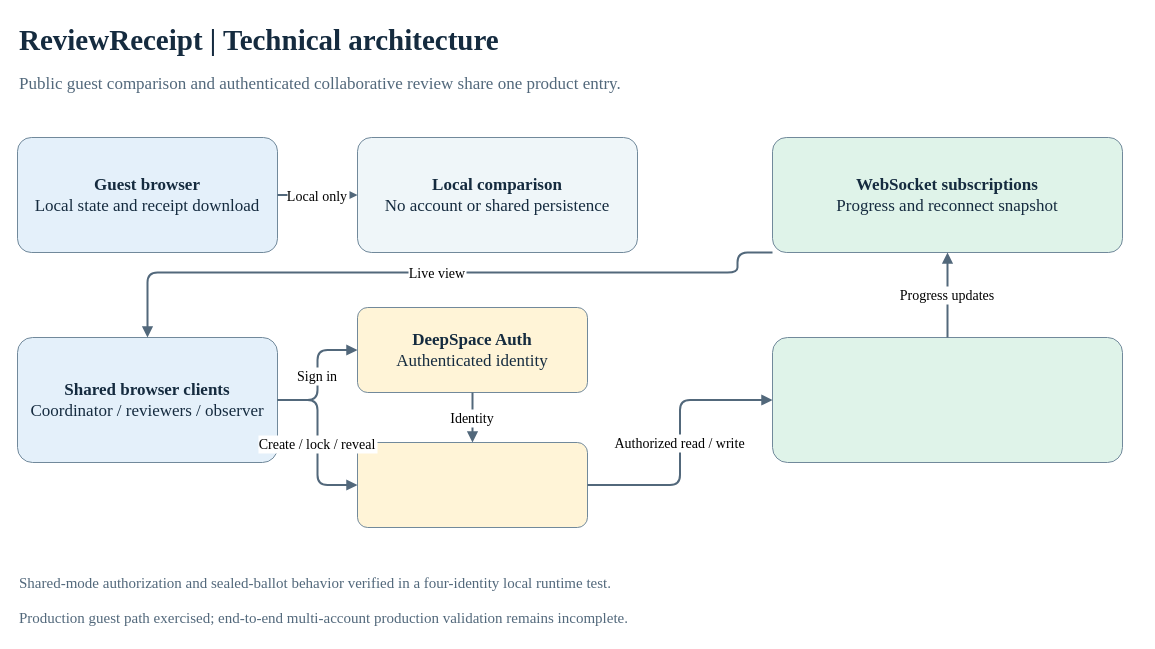
This 1155x649 diagram has some shape labels left out. Each missing label, with the centre of its shape:
Durable RecordRoom records Private ballots · public progress · mapped result: (947,399)
Server Actions Validate roles and transitions: (472,485)
